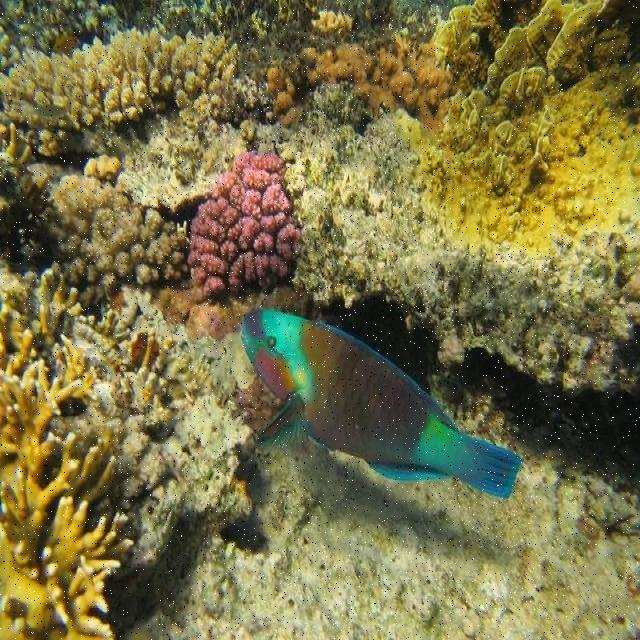fish: (239, 308, 522, 500)
reefs: (399, 1, 639, 257), (0, 273, 134, 639), (0, 30, 236, 127), (40, 179, 189, 303), (189, 150, 301, 296), (266, 42, 448, 131)
